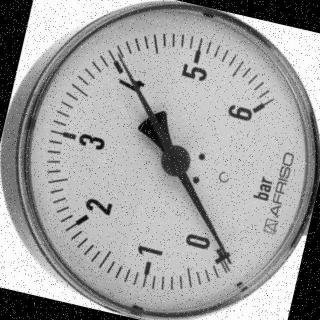gauge: (19, 0, 320, 320), (156, 141, 194, 180), (240, 92, 272, 128), (205, 238, 232, 264), (218, 248, 238, 270), (111, 49, 127, 65)
